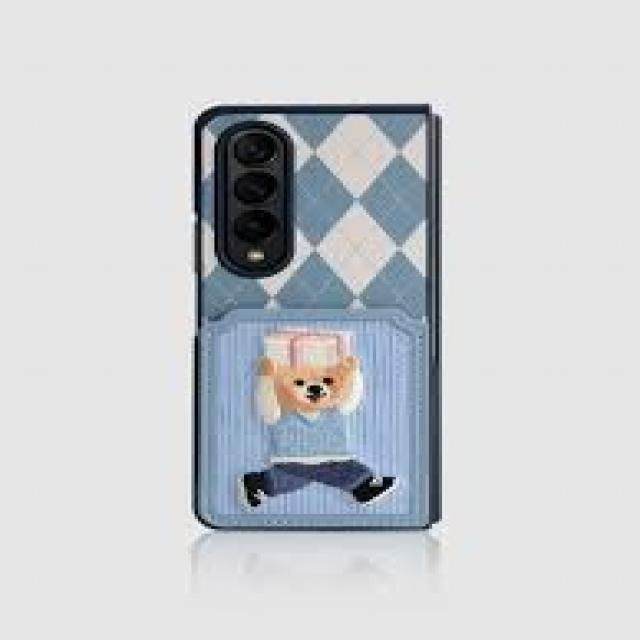Mobile: (184, 94, 449, 533)
